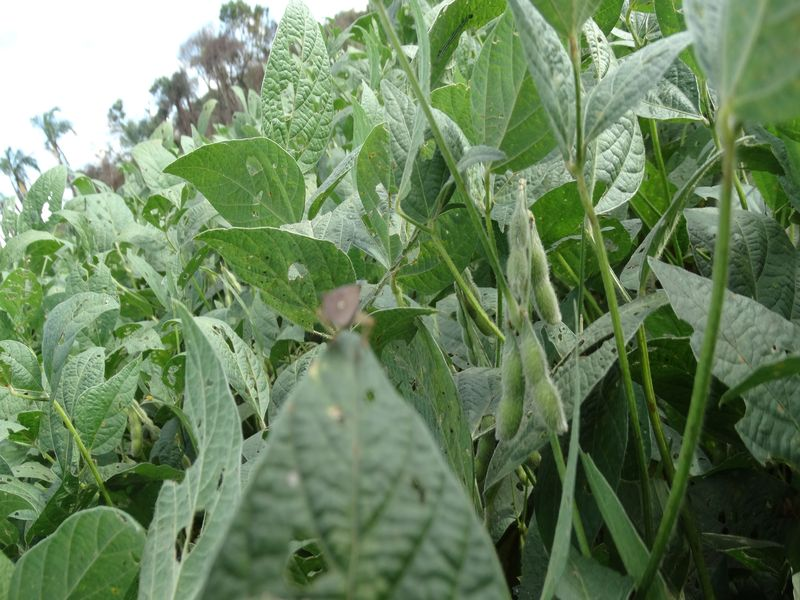Euschistus_heros_adulto: (303, 276, 377, 349)
